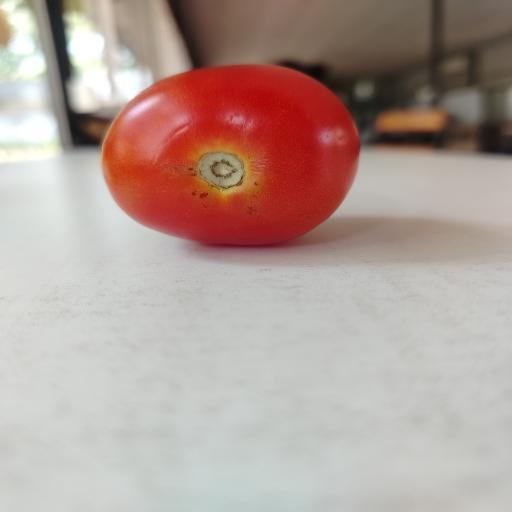ripe: (102, 65, 359, 245)
